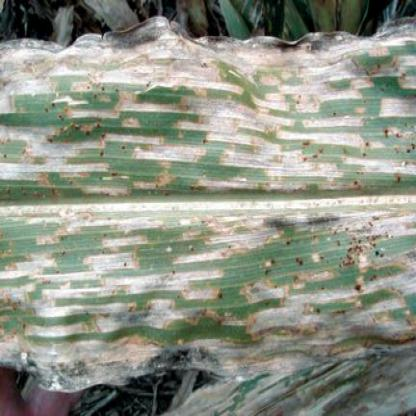corn gray leaf spot: (1, 24, 415, 393)
